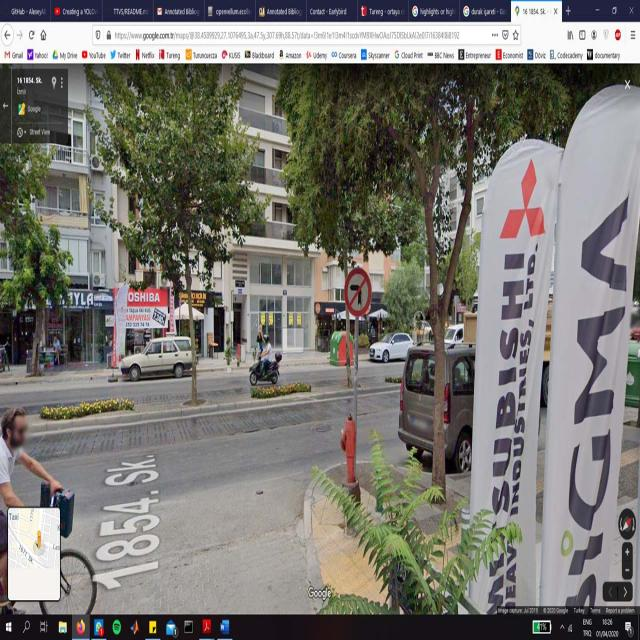soladonulmez: (346, 268, 371, 314)
